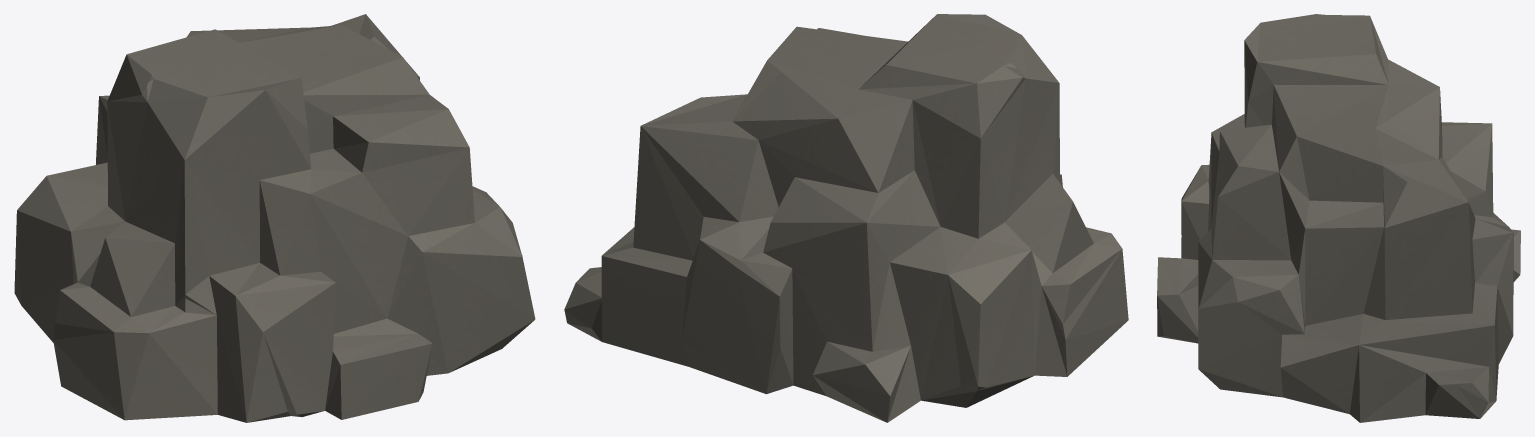
The model's file is Rock_Big_2.fbx.
3 views of the same model, side by side, from view 1: azimuth 30°, elevation 25°; view 2: azimuth 150°, elevation 25°; view 3: azimuth 270°, elevation 25° (orthographic). The views are drawn at different scales.
Parts seen in each view (by area): view 1: Group56194; view 2: Group56194; view 3: Group56194.
Part boxes in pixels (x1,y1,x2,y2): Group56194: (14, 14, 535, 422); Group56194: (564, 14, 1128, 422); Group56194: (1157, 14, 1520, 422).
Bounding box in the file's own units: 2080 × 1370 × 1708.
Materials: 1 (1 with a texture image).
